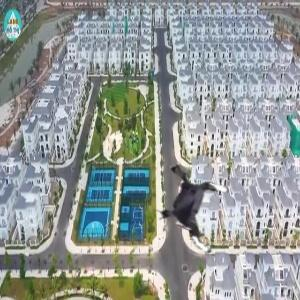drone: (149, 164, 237, 252)
